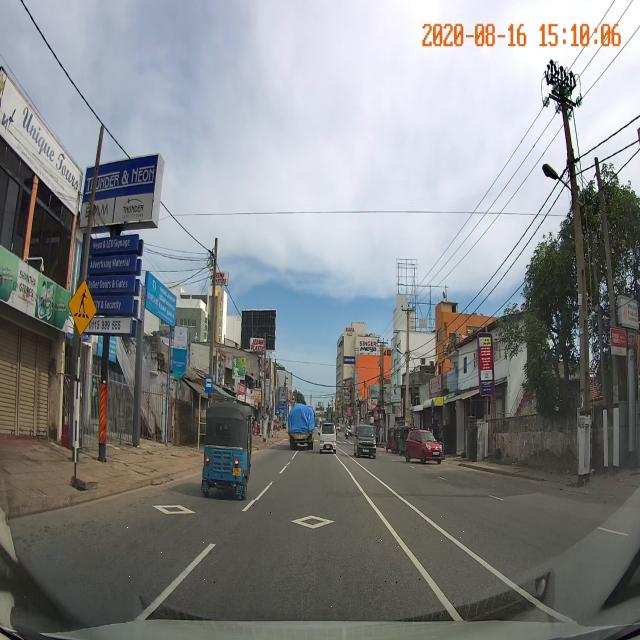diamond: (126, 501, 467, 623)
